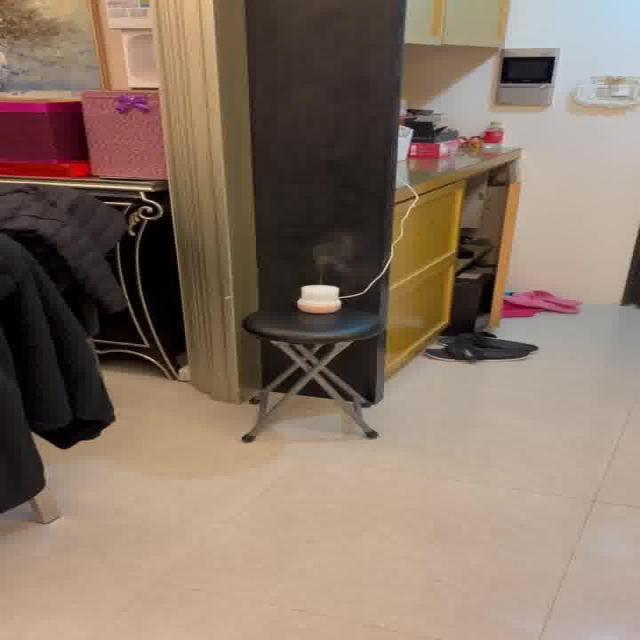fire: (304, 226, 360, 280)
